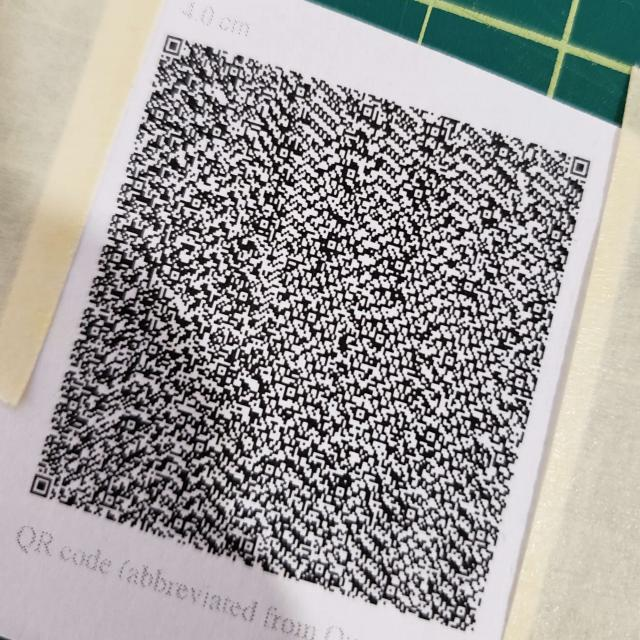QR_CODE: (18, 14, 620, 638)
